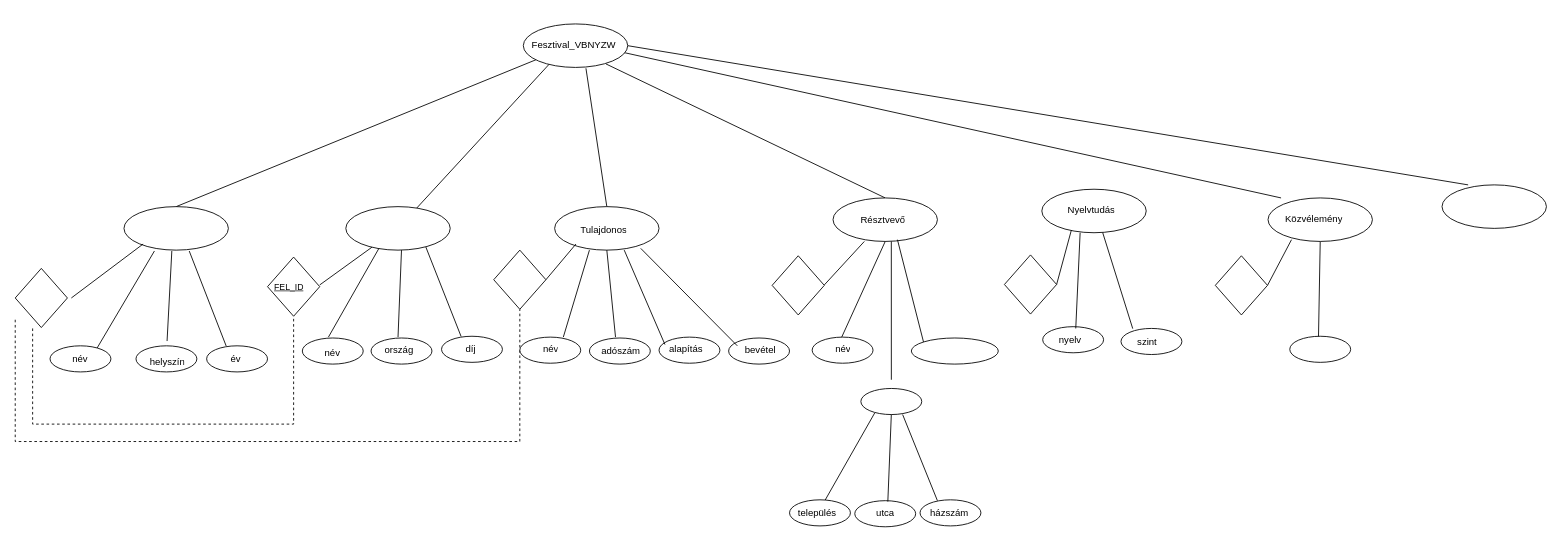
The diagram is 1562 pixels wide and 542 high, and some of its shapes have lost their labels. Here are the shapes that lost their labels. From the top down, the centre of each, then its label:
At pixel 1493 206: "FESZ_T".
At pixel 175 228: "Fesztivál".
At pixel 397 228: "Fellépő".
At pixel 40 298: "FESZ_ID".
At pixel 519 279: "T_ID".
At pixel 797 285: "R_ID".
At pixel 1030 284: "NY_ID".
At pixel 1241 285: "K_ID".
At pixel 954 350: "diákigazolvány".
At pixel 1320 348: "kérdező".
At pixel 891 401: "lakcím".
